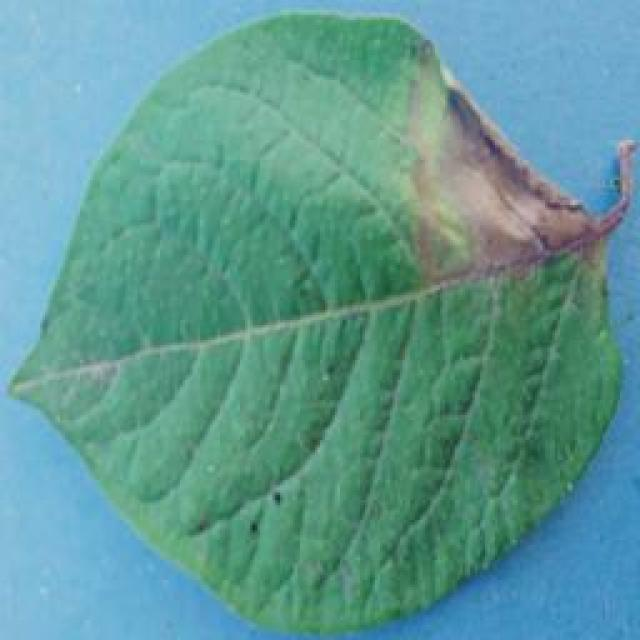Potato_Late_Blight: (45, 48, 623, 629)
